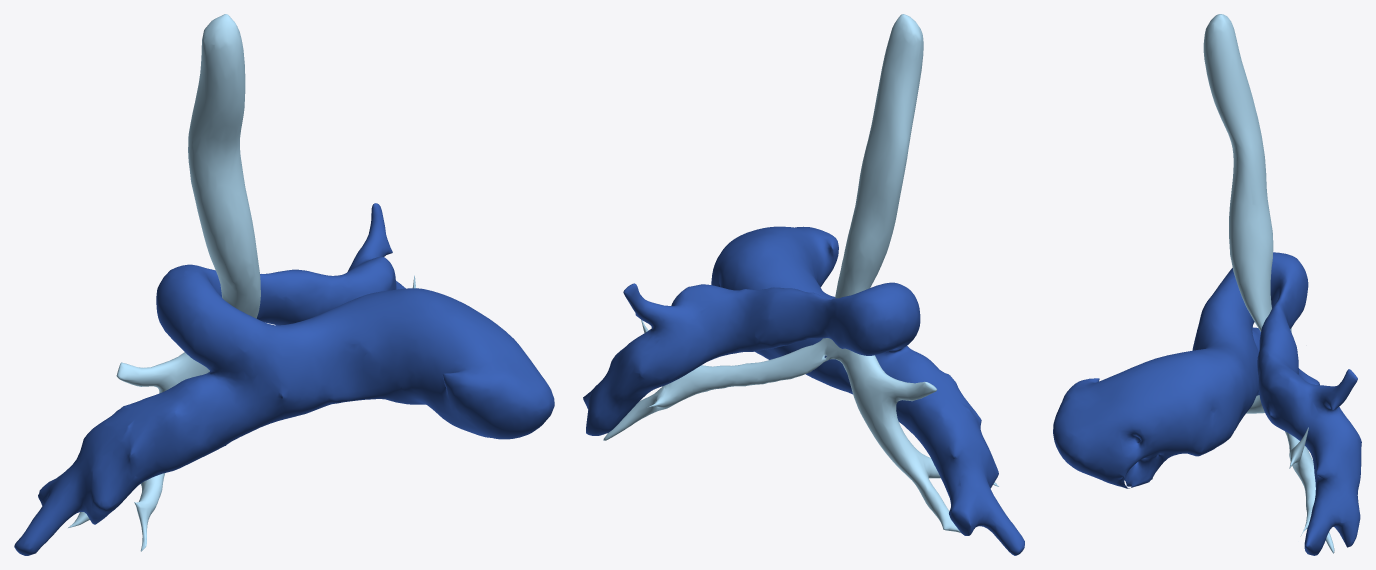
File: sling.gltf
The picture shows the model from 3 angles, left to right: view 1: azimuth 30°, elevation 25°; view 2: azimuth 150°, elevation 25°; view 3: azimuth 270°, elevation 25°; orthographic projection. The views are drawn at different scales.
Visible parts, largest first — view 1: pa, trachea; view 2: pa, trachea; view 3: pa, trachea.
Boxes of the visible parts, x1,y1,x2,y2 form: pa: (14, 203, 554, 555); trachea: (68, 14, 415, 551); pa: (583, 226, 1024, 555); trachea: (603, 14, 998, 532); pa: (1053, 252, 1361, 555); trachea: (1203, 14, 1334, 553).
Size of the model in its own units: 0.0781 by 0.0834 by 0.0505.
